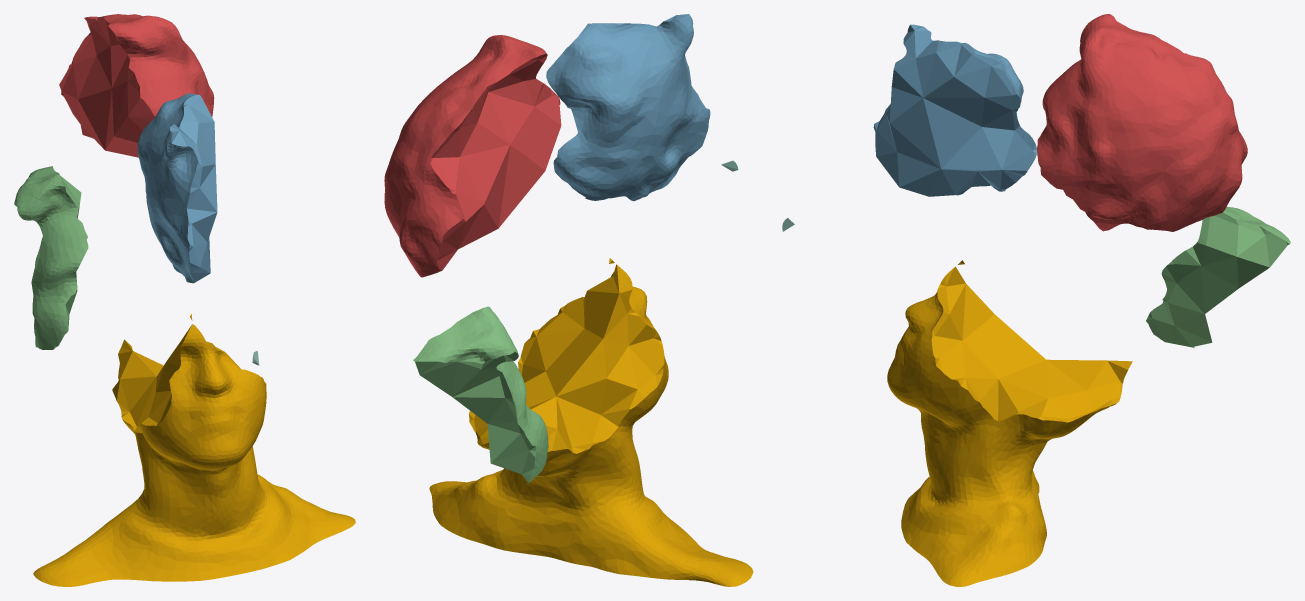
Rendered from mode_6_5pcs_transformed.glb.
3 renders of one model, left to right at view 1: azimuth 30°, elevation 25°; view 2: azimuth 150°, elevation 25°; view 3: azimuth 270°, elevation 25°, orthographic. The views are drawn at different scales.
Parts seen in each view (by area): view 1: piece_0.obj, piece_1.obj, piece_2.obj, piece_3.obj; view 2: piece_0.obj, piece_1.obj, piece_2.obj, piece_3.obj; view 3: piece_0.obj, piece_1.obj, piece_2.obj, piece_3.obj.
Part boxes in pixels (x1,y1,x2,y2): piece_0.obj: [33, 313, 355, 586]; piece_1.obj: [59, 14, 214, 157]; piece_2.obj: [137, 93, 217, 283]; piece_3.obj: [14, 166, 88, 349]; piece_0.obj: [429, 258, 753, 586]; piece_1.obj: [384, 35, 561, 277]; piece_2.obj: [546, 14, 710, 201]; piece_3.obj: [413, 306, 548, 482]; piece_0.obj: [887, 260, 1132, 586]; piece_1.obj: [1037, 14, 1247, 231]; piece_2.obj: [873, 24, 1036, 196]; piece_3.obj: [1146, 206, 1290, 348].
Size of the model in its own units: 1 by 1.55 by 1.45.
